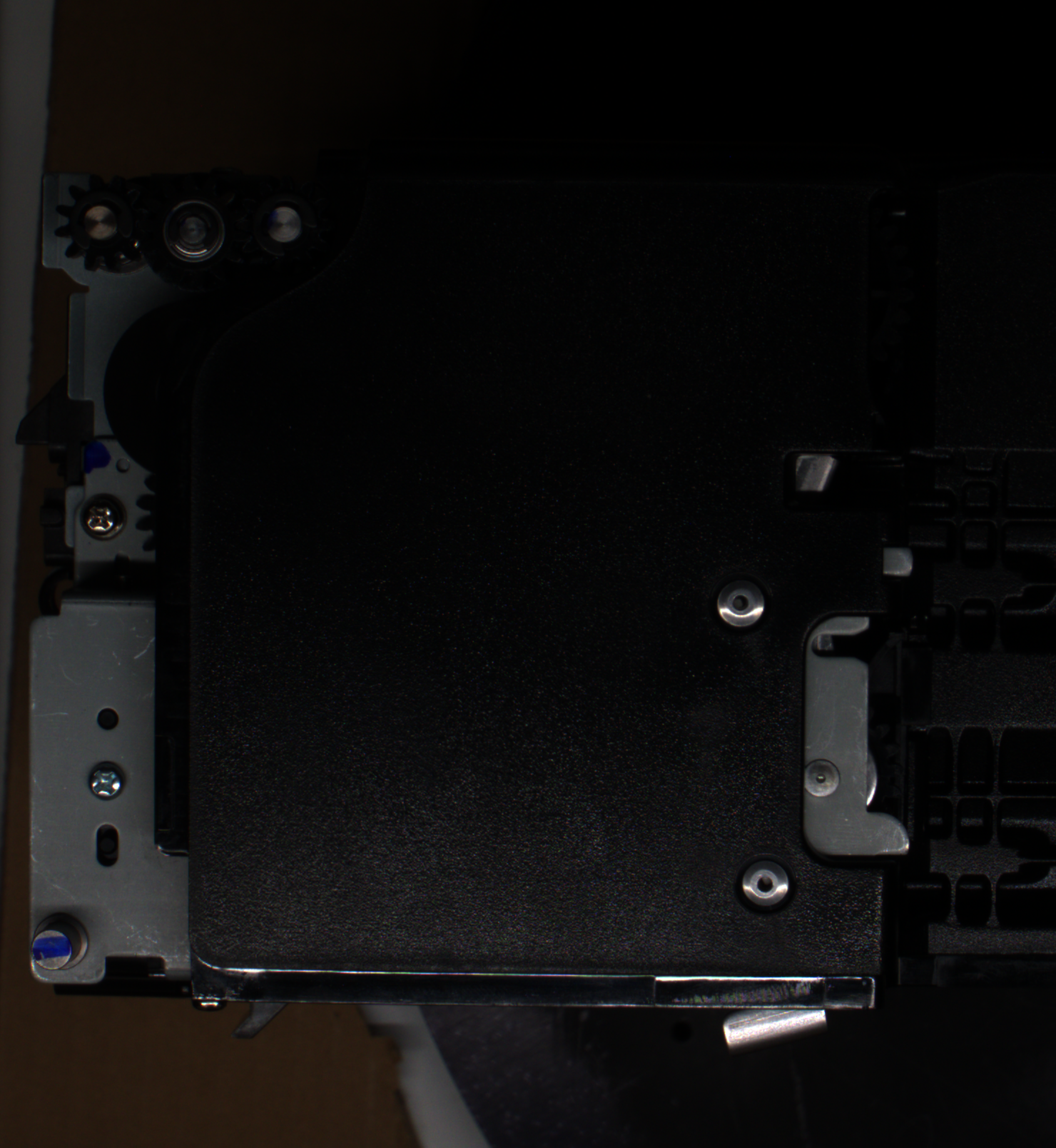centre_pin_presence: (716, 992, 833, 1057)
centre_plate_presence: (791, 605, 921, 875)
centre_screw_presence: (704, 567, 778, 641), (730, 848, 800, 922)
gear1_presence: (52, 172, 151, 278)
gear2_presence: (136, 171, 252, 294)
gear3_presence: (234, 177, 333, 276)
side_screw_presence: (75, 490, 129, 542), (82, 757, 128, 801)
slanting_pin_presence: (26, 910, 96, 977)
